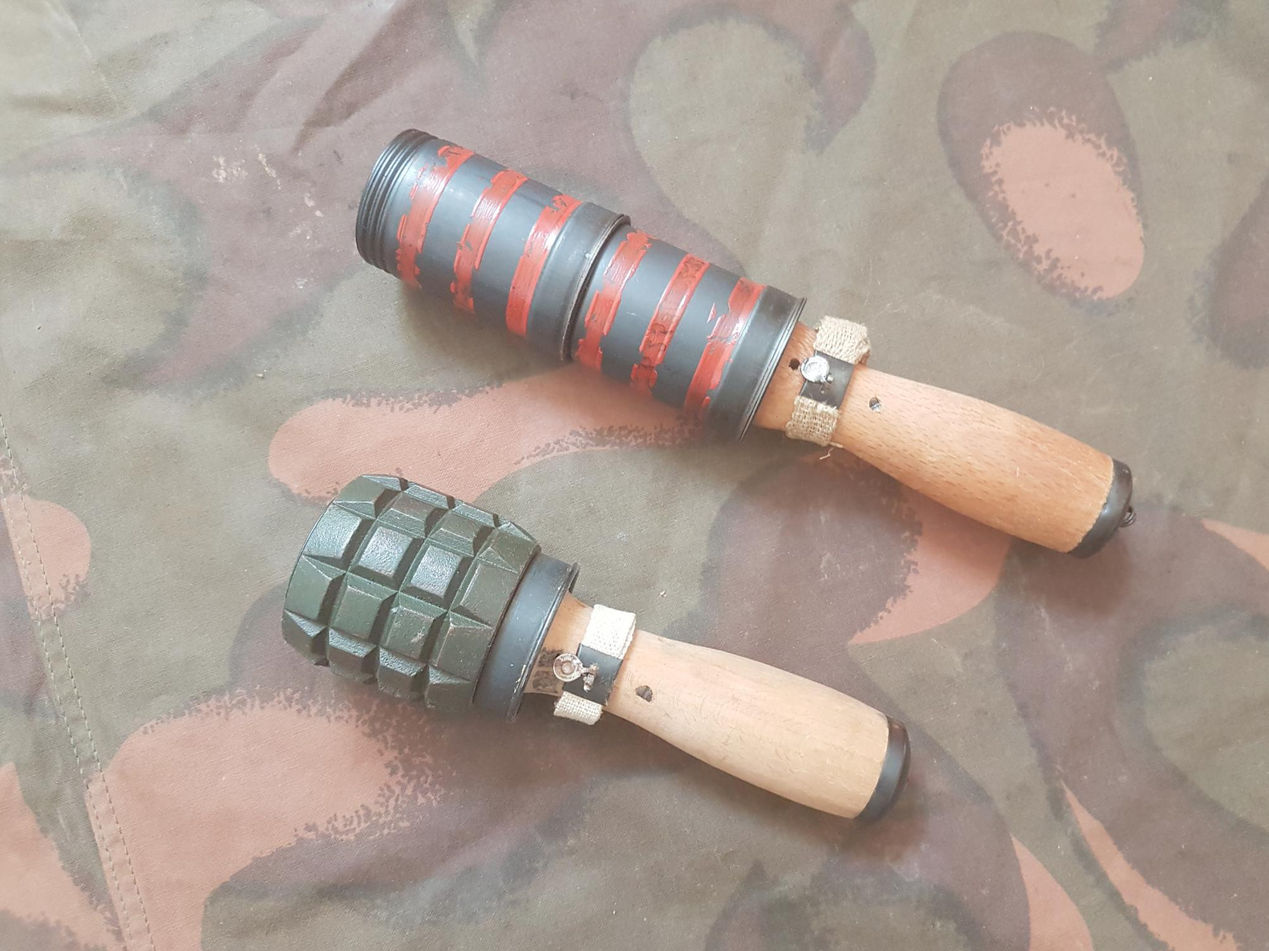Grenade: (282, 471, 579, 723), (354, 127, 637, 362), (564, 216, 804, 436)
